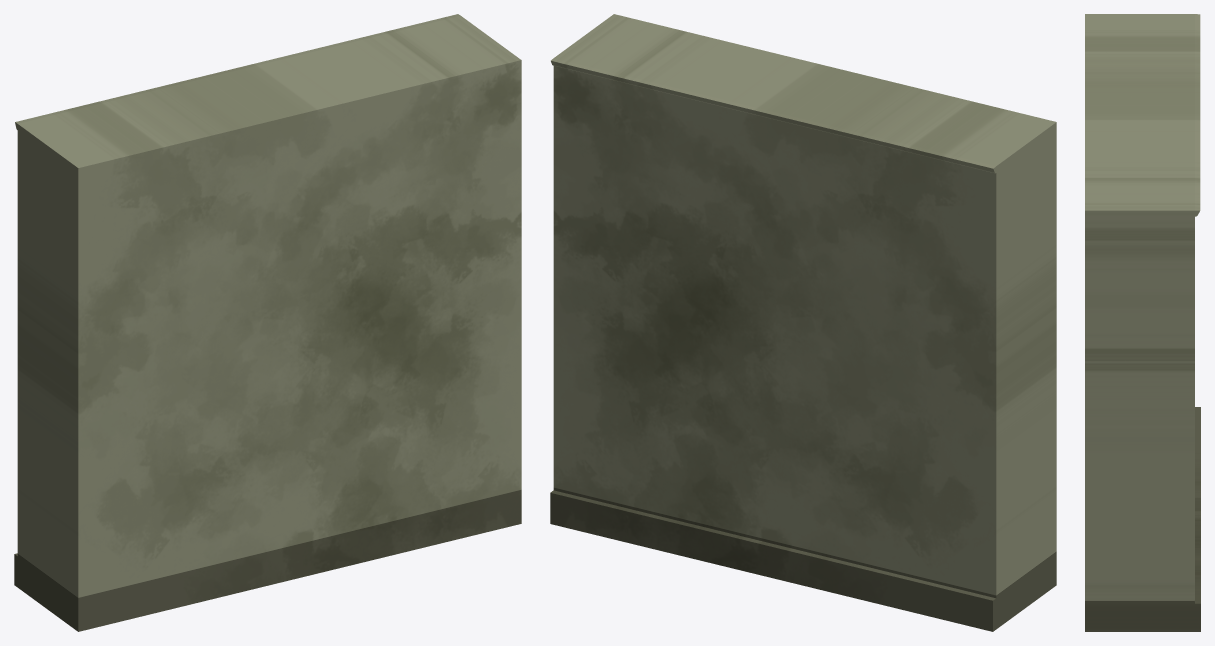
File: Wall_3_L.fbx
3 views of the same model, side by side, from view 1: azimuth 30°, elevation 25°; view 2: azimuth 150°, elevation 25°; view 3: azimuth 270°, elevation 25° (orthographic). The views are drawn at different scales.
Visible parts, largest first — view 1: Wall_3_L; view 2: Wall_3_L; view 3: Wall_3_L.
Part boxes in pixels (bbox=[...]): Wall_3_L: bbox=[14, 14, 521, 631]; Wall_3_L: bbox=[550, 14, 1056, 631]; Wall_3_L: bbox=[1085, 14, 1200, 631].
Bounding box in the file's own units: 4 × 4 × 0.9977.
